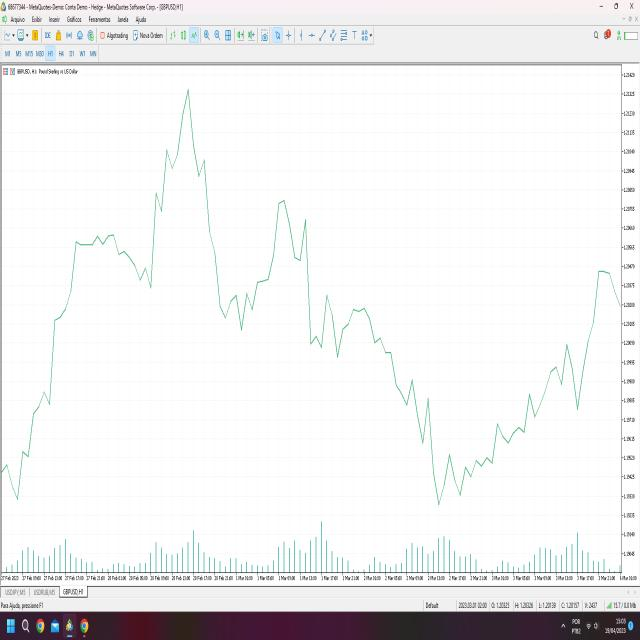fundo_duplo: (428, 440, 468, 512)
oco: (147, 86, 225, 189)
oco_inv: (217, 262, 269, 337)
